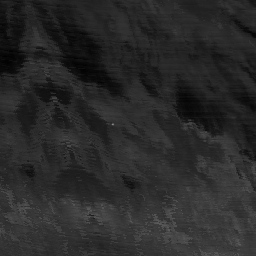Target: (110, 122, 115, 127)
